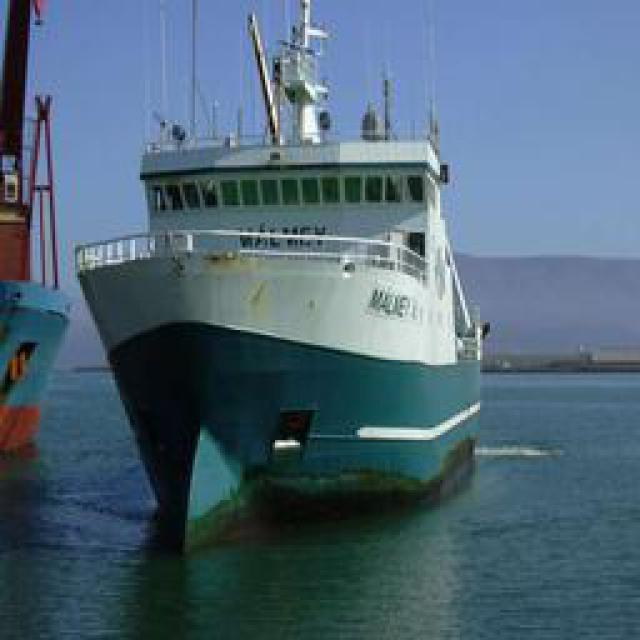Ship: (86, 5, 484, 518)
